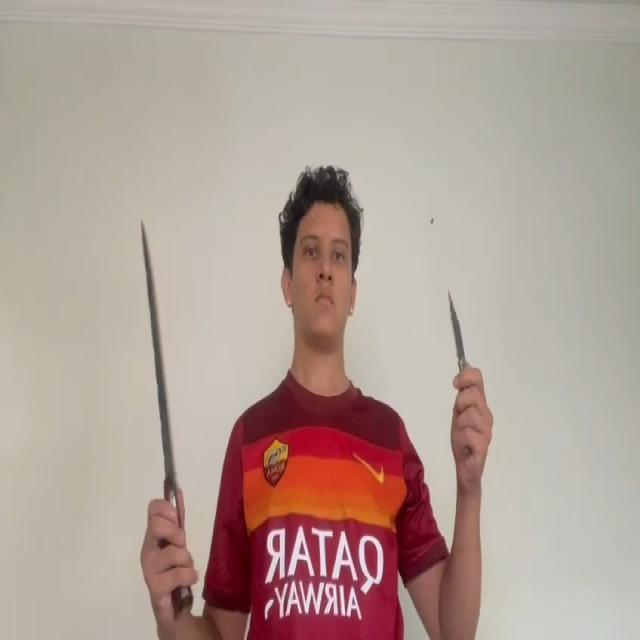knife: (141, 221, 174, 485), (447, 290, 465, 364)
